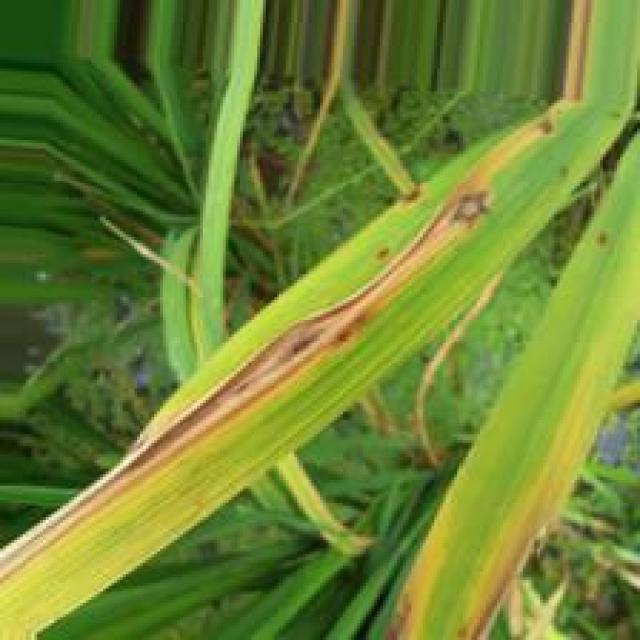Rice False Smut: (0, 161, 500, 582), (460, 497, 556, 640)
